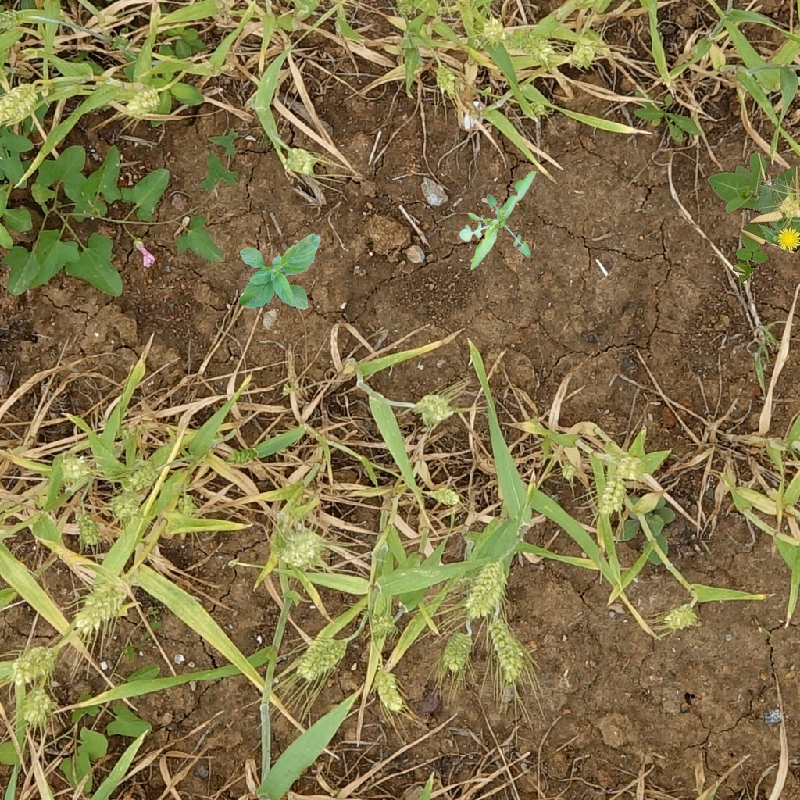spikelet: (72, 574, 130, 634), (487, 615, 526, 683), (463, 558, 507, 618), (296, 635, 348, 681), (1, 81, 41, 129), (276, 528, 324, 568), (10, 644, 55, 684), (506, 27, 554, 63), (372, 666, 405, 713), (440, 629, 474, 673), (415, 391, 454, 426), (594, 475, 627, 516), (123, 84, 162, 117), (20, 687, 53, 725), (123, 460, 159, 492), (567, 36, 599, 69), (282, 145, 315, 176), (662, 603, 699, 630), (475, 15, 506, 47), (60, 453, 91, 485), (75, 511, 103, 546), (614, 451, 647, 479), (109, 491, 140, 520), (420, 176, 448, 208), (366, 611, 398, 638), (433, 61, 457, 95), (430, 484, 462, 506), (224, 447, 256, 466), (1, 6, 22, 32), (392, 1, 418, 19)
weed: (1, 142, 167, 302), (703, 135, 800, 272), (459, 171, 537, 270), (239, 233, 321, 310), (173, 216, 229, 264), (203, 132, 249, 189)
